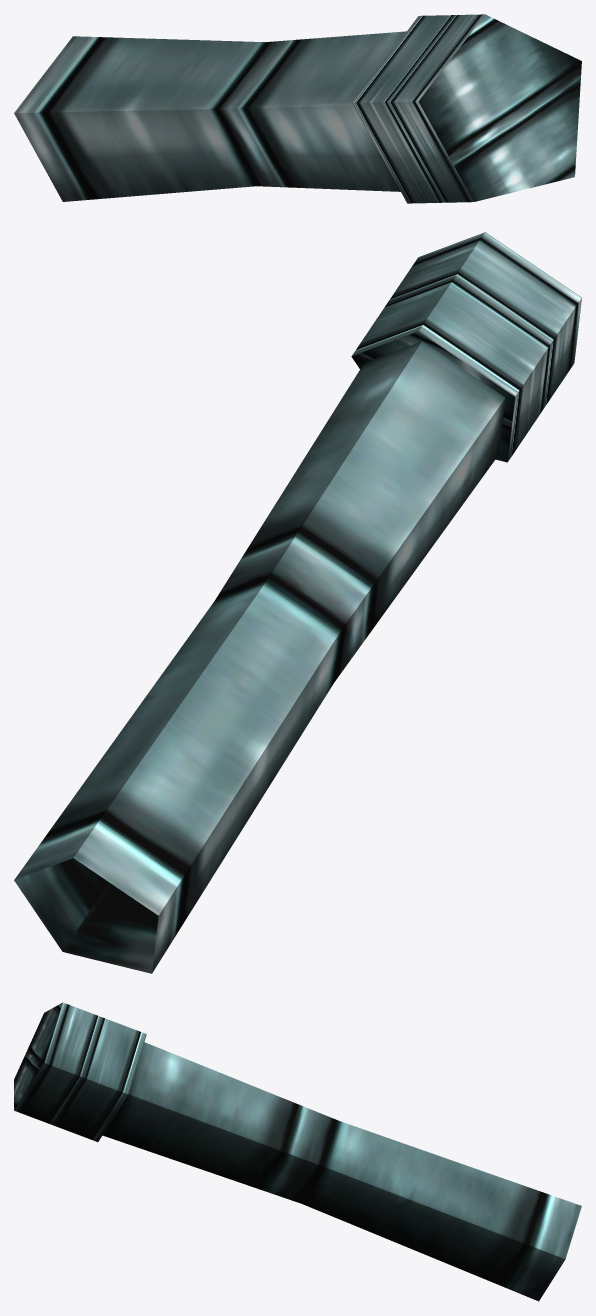
File: Rohr_StückDünnSchräg_662.glb
3 renders of one model, top to bottom at view 1: azimuth 30°, elevation 25°; view 2: azimuth 150°, elevation 25°; view 3: azimuth 270°, elevation 25°, orthographic. The views are drawn at different scales.
Visible parts, largest first — view 1: roehre_upX2_pCylinderShape79, roehre_upX2_pCylinderShape80; view 2: roehre_upX2_pCylinderShape79, roehre_upX2_pCylinderShape80; view 3: roehre_upX2_pCylinderShape79, roehre_upX2_pCylinderShape80.
Part boxes in pixels (x1,y1,x2,y2): roehre_upX2_pCylinderShape79: (14, 31, 406, 201); roehre_upX2_pCylinderShape80: (352, 14, 581, 203); roehre_upX2_pCylinderShape79: (14, 341, 505, 973); roehre_upX2_pCylinderShape80: (351, 232, 581, 462); roehre_upX2_pCylinderShape79: (102, 1042, 581, 1301); roehre_upX2_pCylinderShape80: (14, 1002, 146, 1141).
Size of the model in its own units: 0.1145 by 0.3033 by 0.5468.
Materials: 2 (2 with a texture image).
